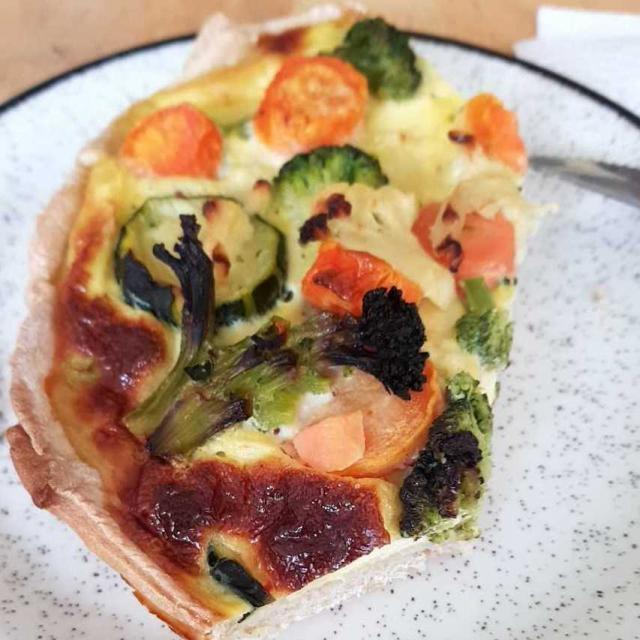vegetables-stuffed-pie: (26, 29, 525, 618)
